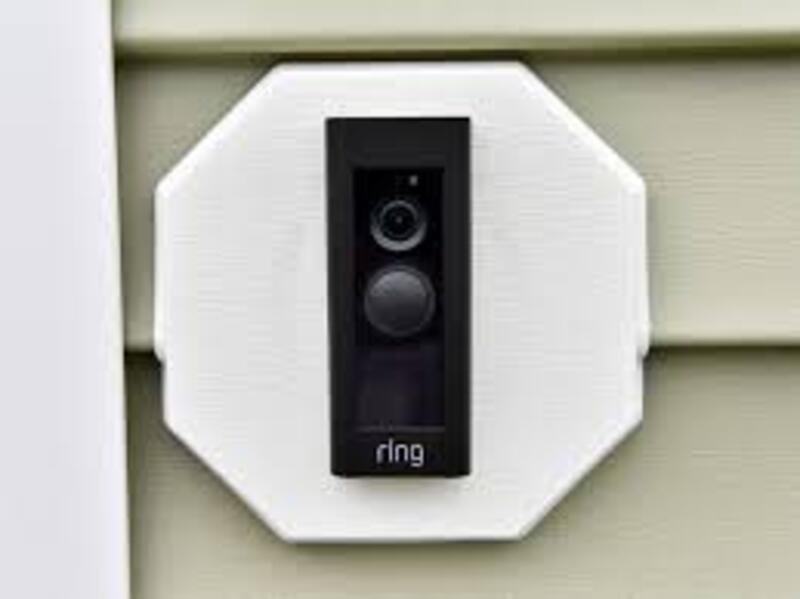doorbell: (324, 113, 472, 480)
